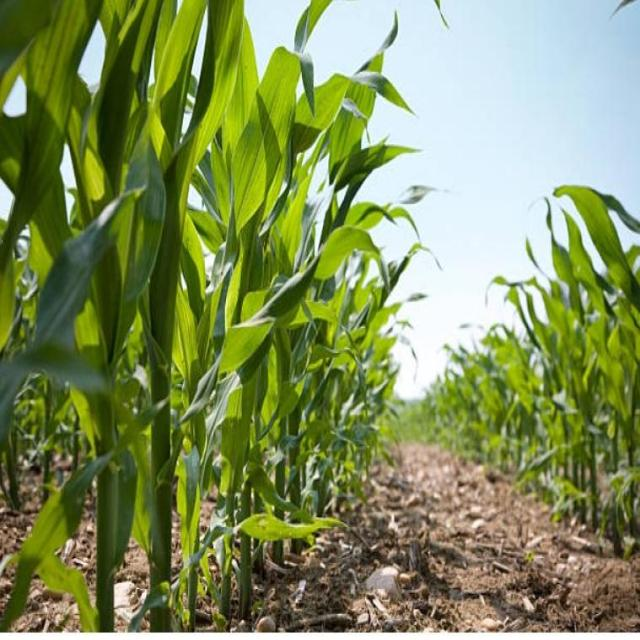row: (204, 437, 639, 632)
